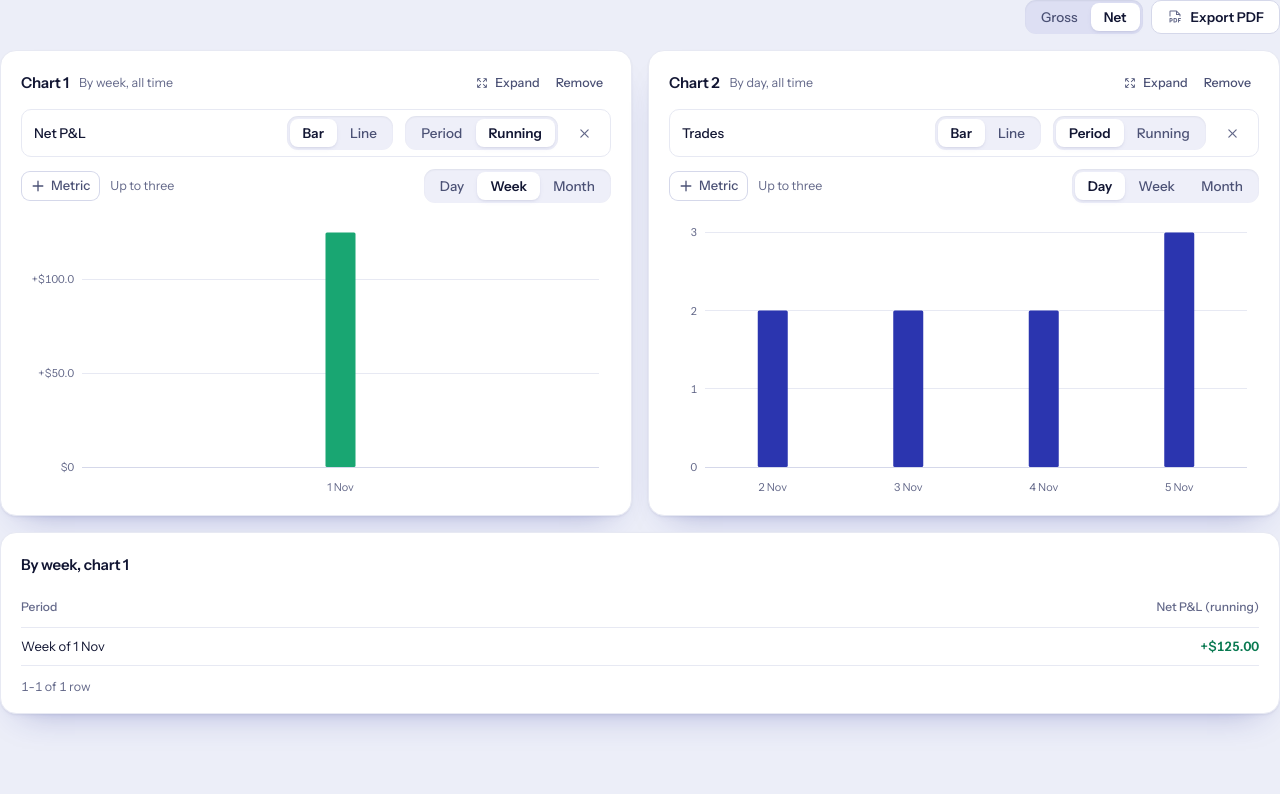
it: the first slot can go too: the table then follows the one left
Click the button with aria-label "Remove chart 1" at (579, 83), box [548, 69, 611, 97]
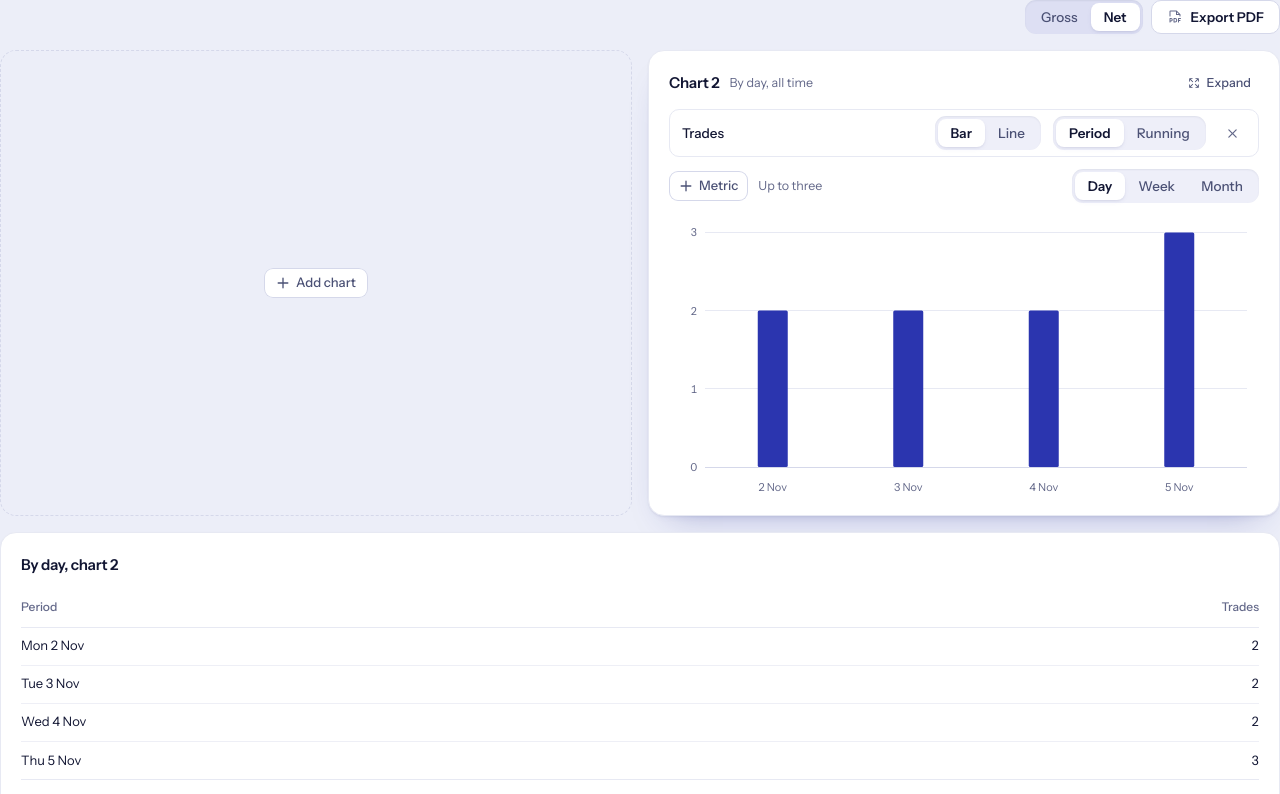
expect the heading "Chart 1" is gone: met
expect the button "Add chart" is shown: met, box [264, 268, 368, 298]
expect the column headings read "Period", "Trades", in this order: met, box [21, 587, 732, 627]; [732, 587, 1259, 627]
